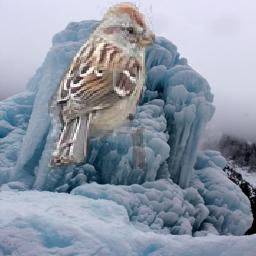Sparrow: (49, 3, 156, 170)
